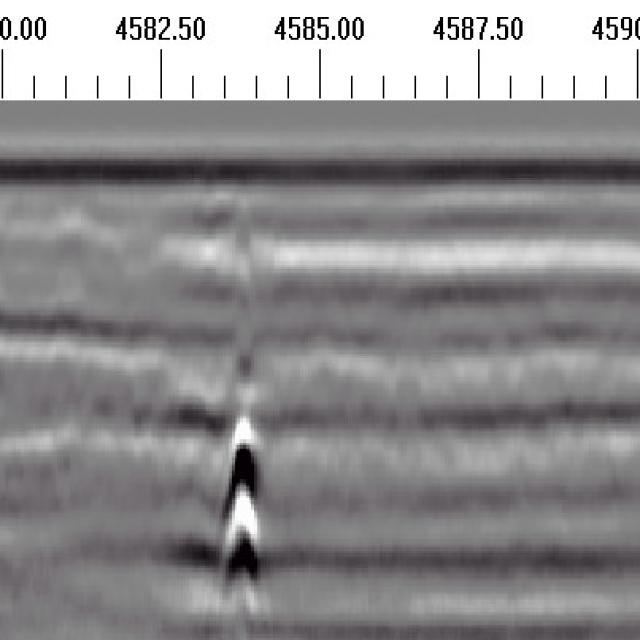crack: (215, 187, 263, 632)
